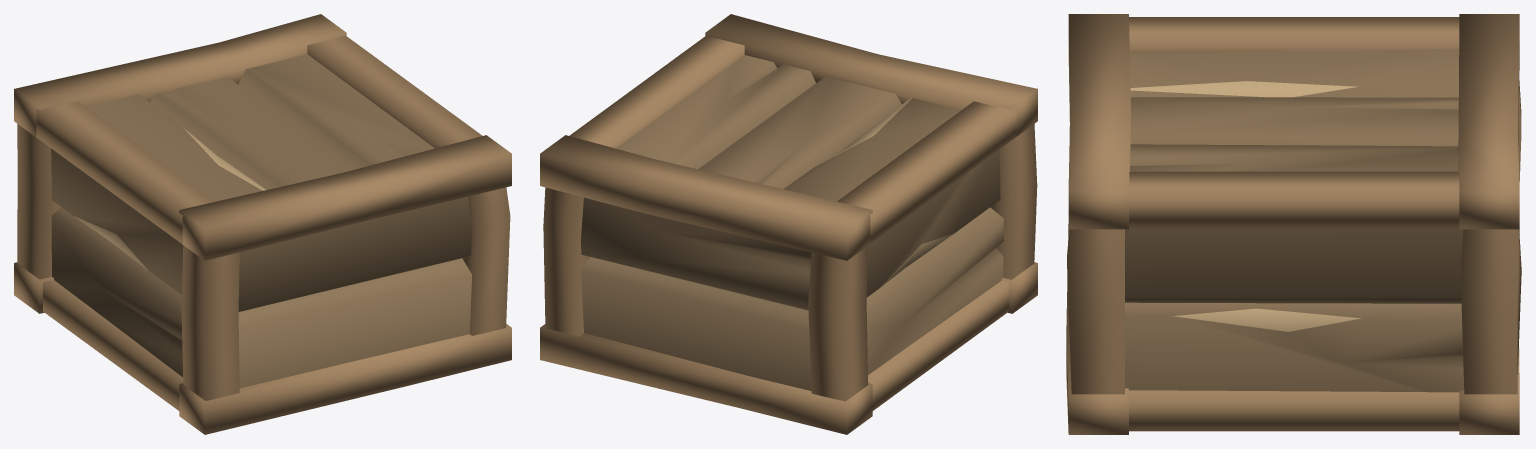
The model's file is rpgpp_ag_crate_01b.fbx.
3 renders of one model, left to right at view 1: azimuth 30°, elevation 25°; view 2: azimuth 150°, elevation 25°; view 3: azimuth 270°, elevation 25°, orthographic. The views are drawn at different scales.
Visible parts, largest first — view 1: rpgpp_ag_crate_01b; view 2: rpgpp_ag_crate_01b; view 3: rpgpp_ag_crate_01b.
Boxes of the visible parts, bbox=[...] form: rpgpp_ag_crate_01b: bbox=[14, 14, 511, 434]; rpgpp_ag_crate_01b: bbox=[540, 14, 1037, 434]; rpgpp_ag_crate_01b: bbox=[1066, 14, 1521, 434].
Size of the model in its own units: 0.6984 by 0.4492 by 0.7578.
